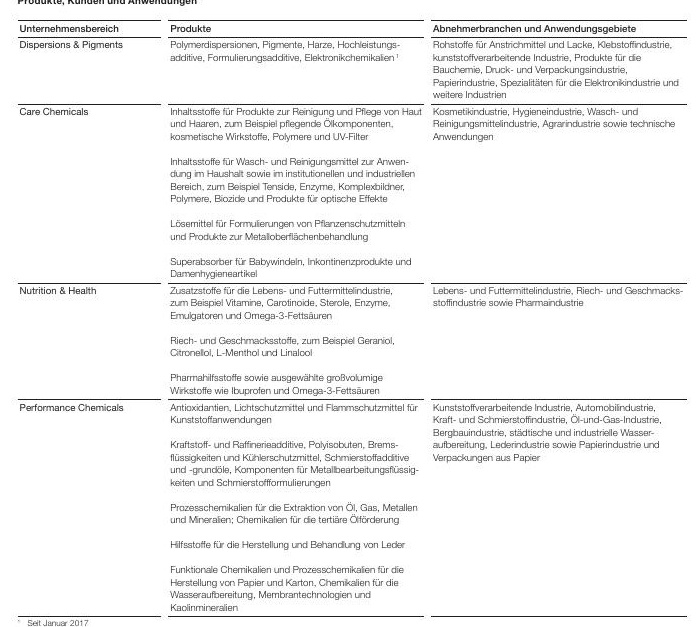table: (0, 0, 698, 627)
